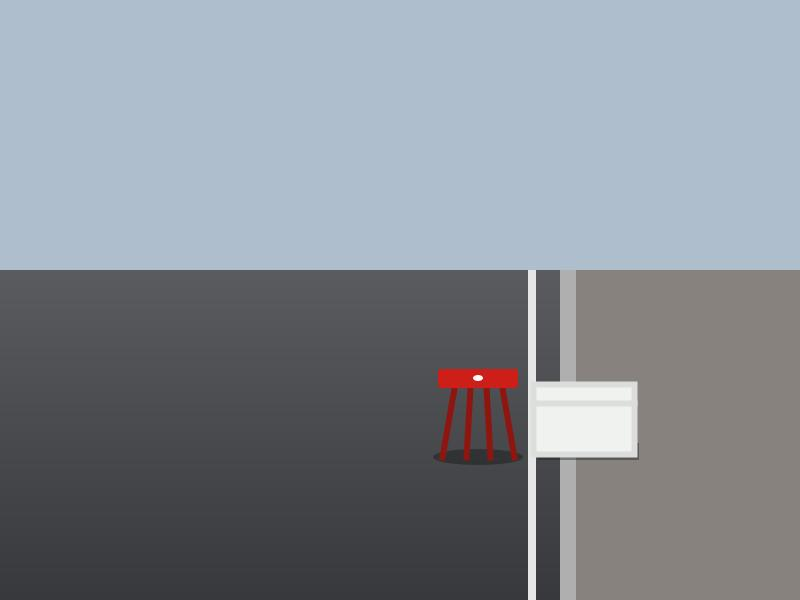ROAD_OBSTACLE: (533, 384, 634, 454), (438, 369, 518, 457)
